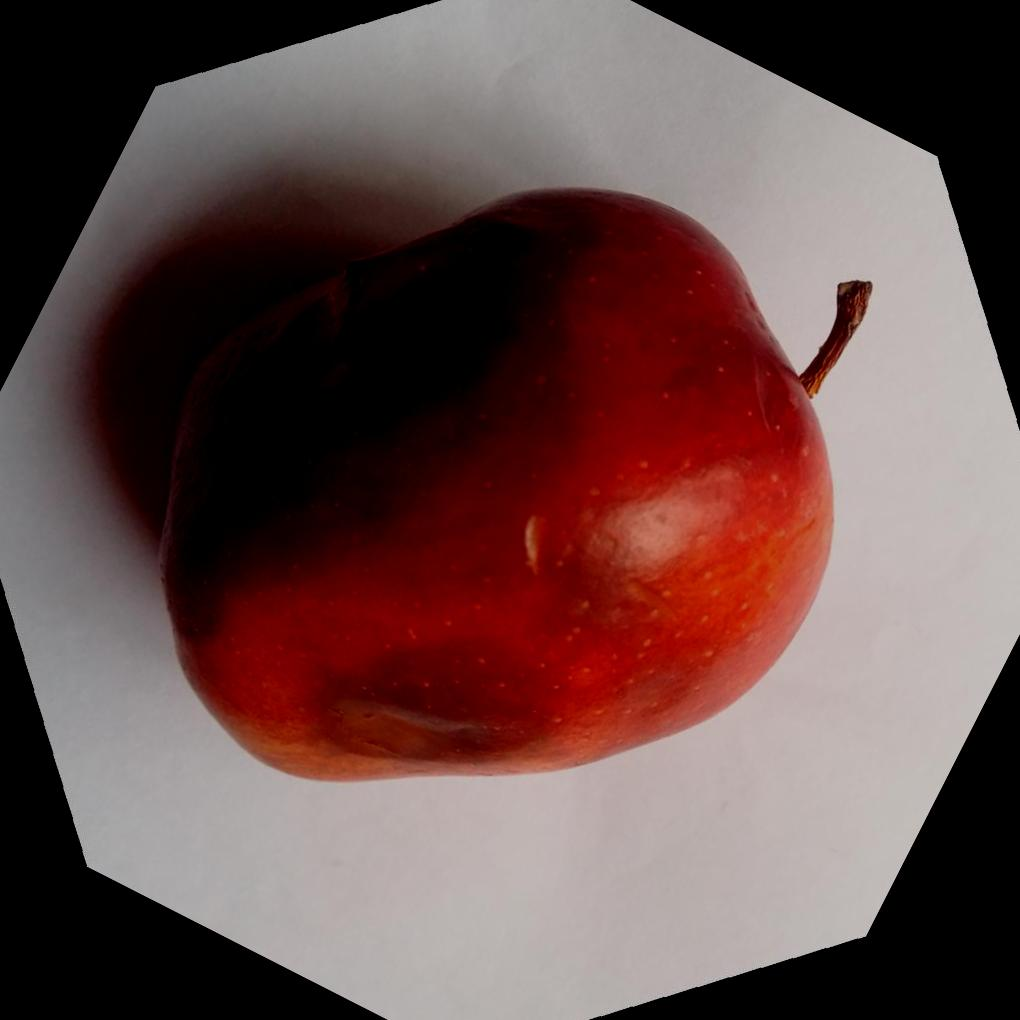FreshOrange: (157, 182, 872, 781)
